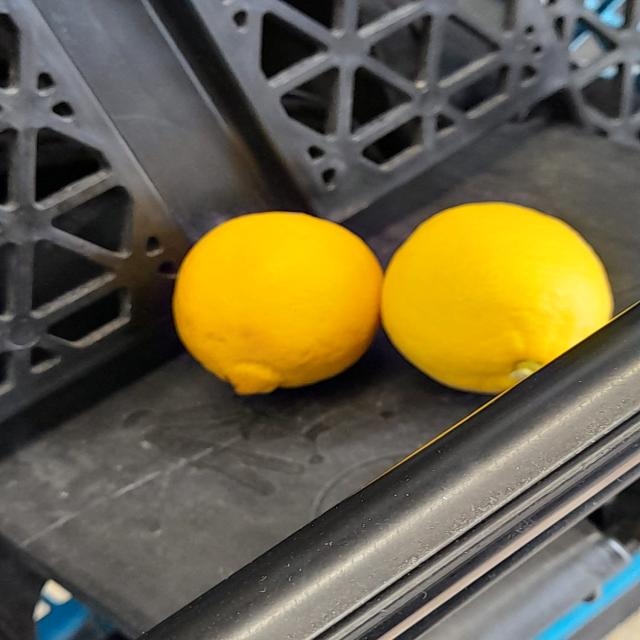lemon: (378, 189, 629, 403), (156, 198, 390, 404)
